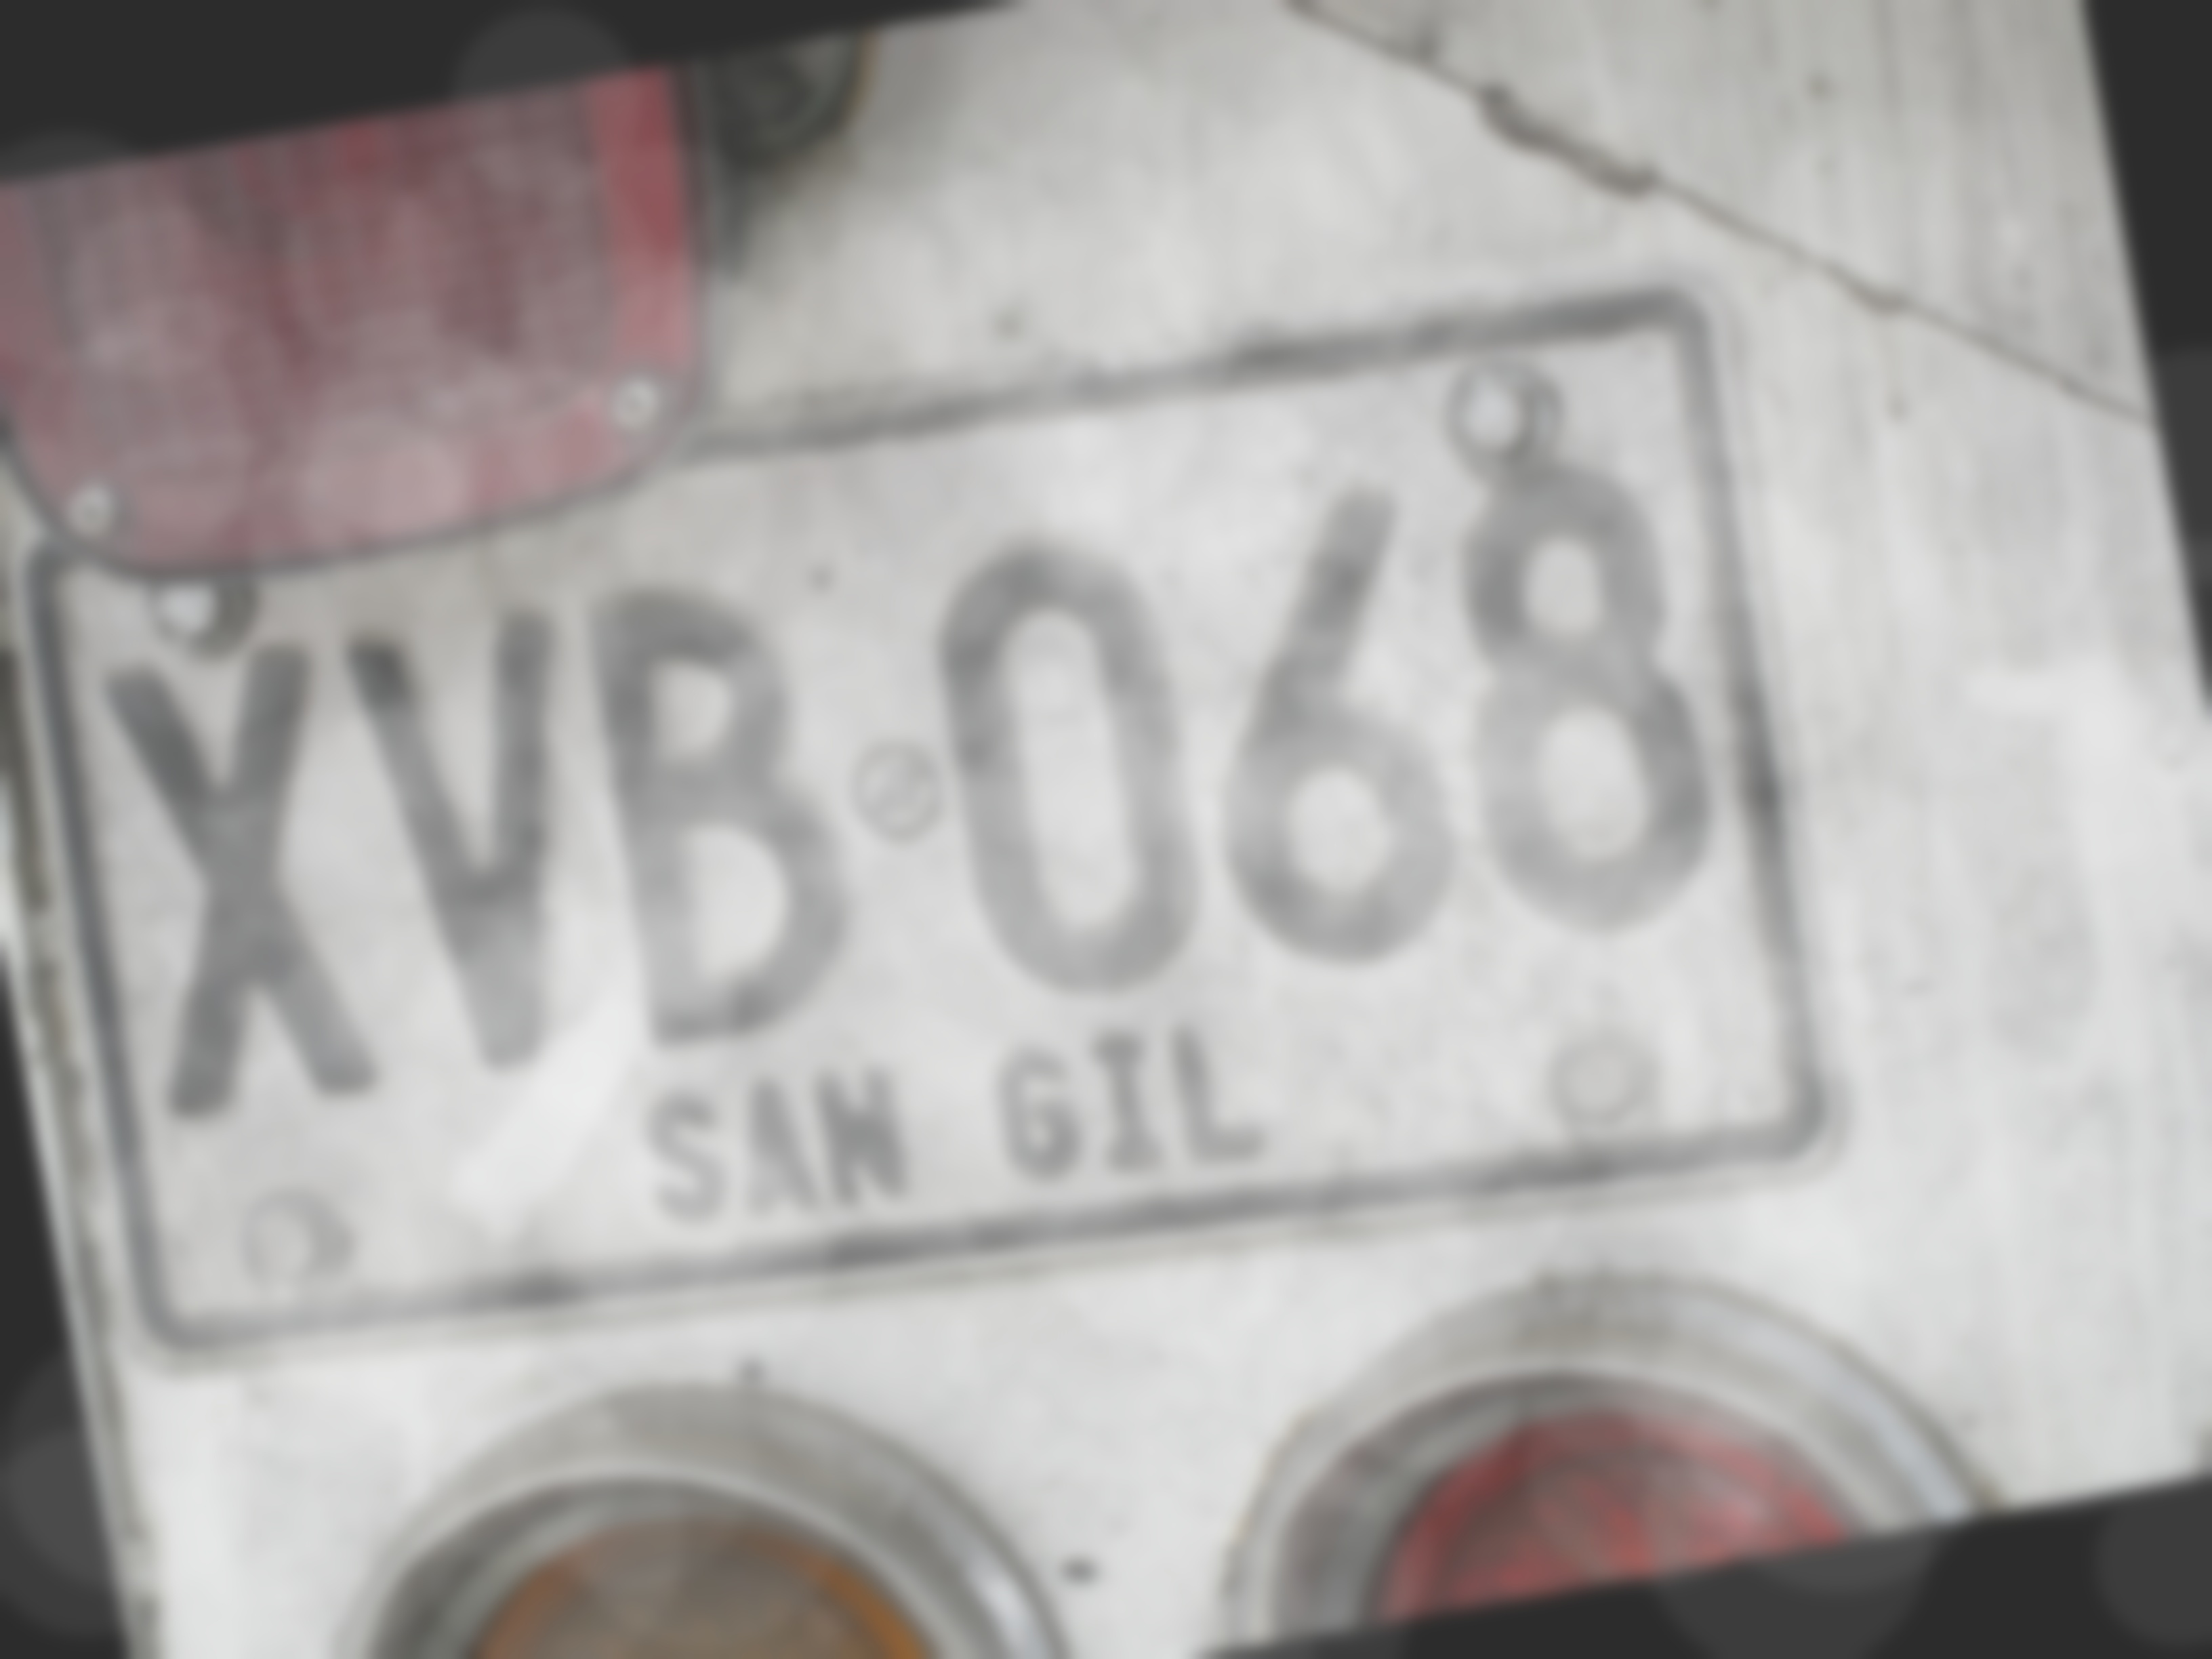placas: (0, 220, 1888, 1476)
